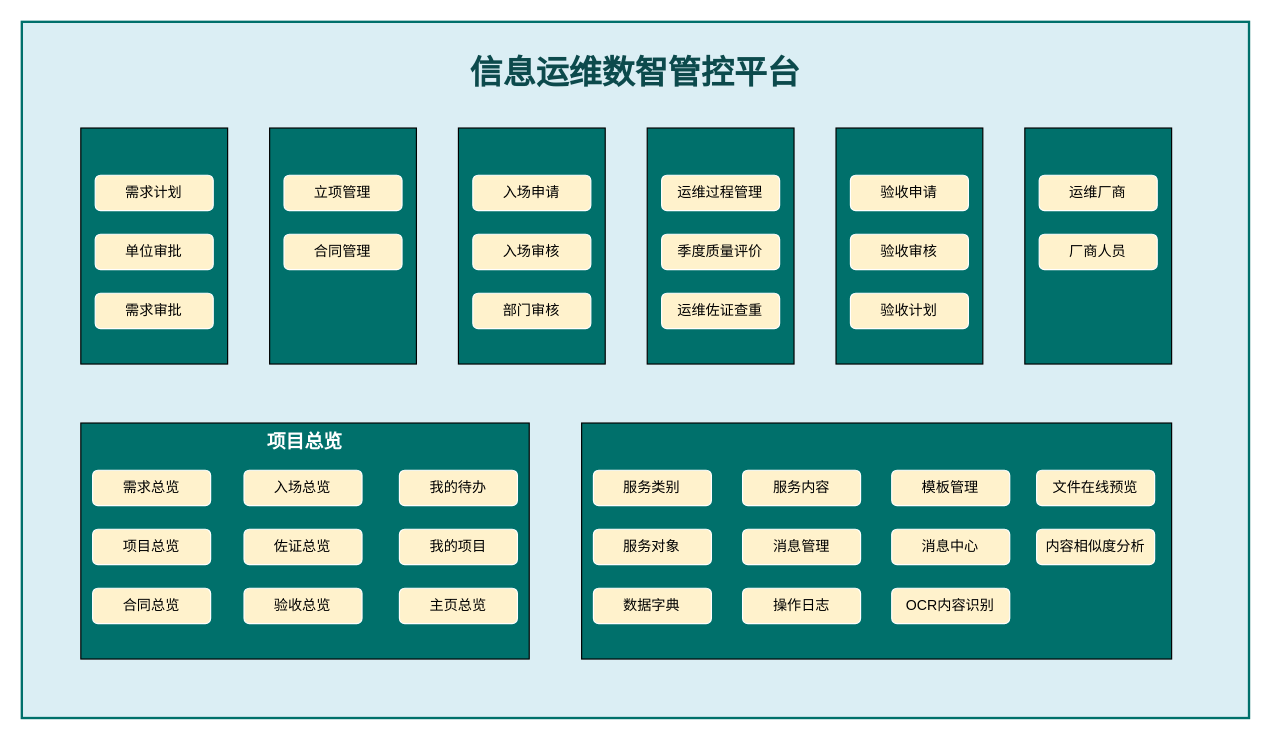
This 1270x739 diagram has some shape labels left out. The box of each missing label's shape, as (x1, y1, x2, y2) in pixels:
入场管理: (457, 127, 605, 364)
厂商管理: (1024, 127, 1172, 364)
基础信息管理: (580, 422, 1172, 659)
运维管理: (646, 127, 794, 364)
需求管理: (80, 127, 228, 364)
项目管理: (268, 127, 416, 364)
验收管理: (835, 127, 983, 364)
